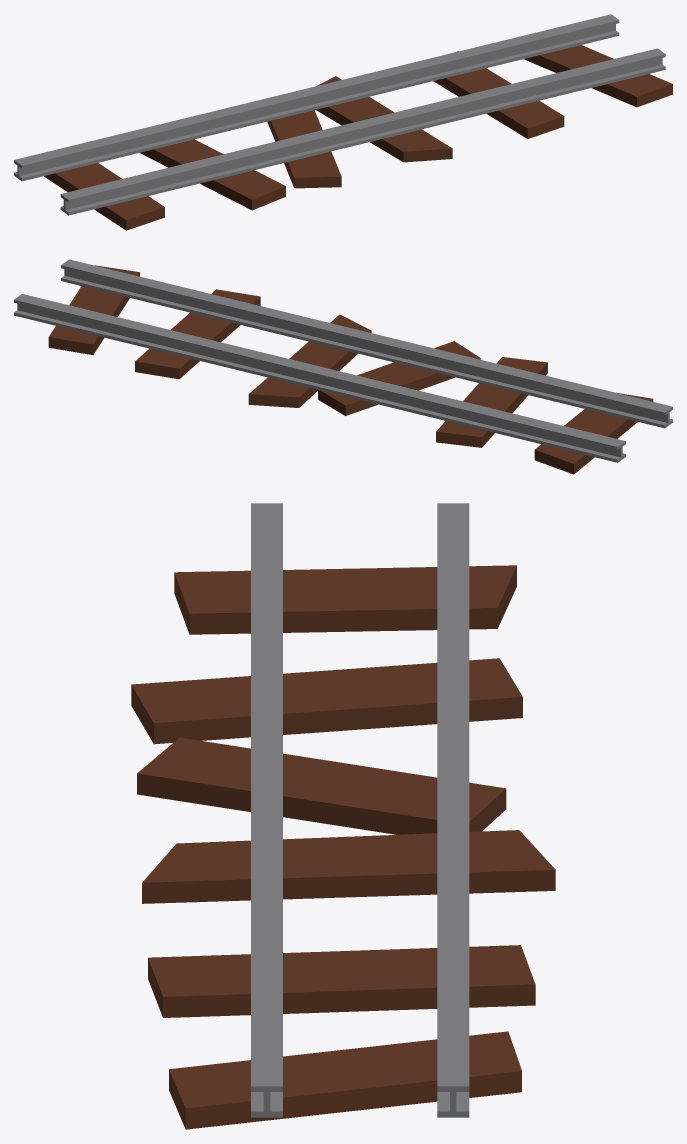
File: rail_2.fbx
3 renders of one model, top to bottom at view 1: azimuth 30°, elevation 25°; view 2: azimuth 150°, elevation 25°; view 3: azimuth 270°, elevation 25°, orthographic. The views are drawn at different scales.
Visible parts, largest first — view 1: rail068, planks009; view 2: rail068, planks009; view 3: planks009, rail068.
Boxes of the visible parts, box(x1,y1,x2,y2) form: rail068: box(14, 14, 665, 215); planks009: box(44, 45, 672, 230); rail068: box(14, 259, 672, 462); planks009: box(48, 265, 653, 474); planks009: box(131, 565, 555, 1129); rail068: box(251, 503, 469, 1117).
Bounding box in the file's own units: 117 × 4.88 × 35.9.
